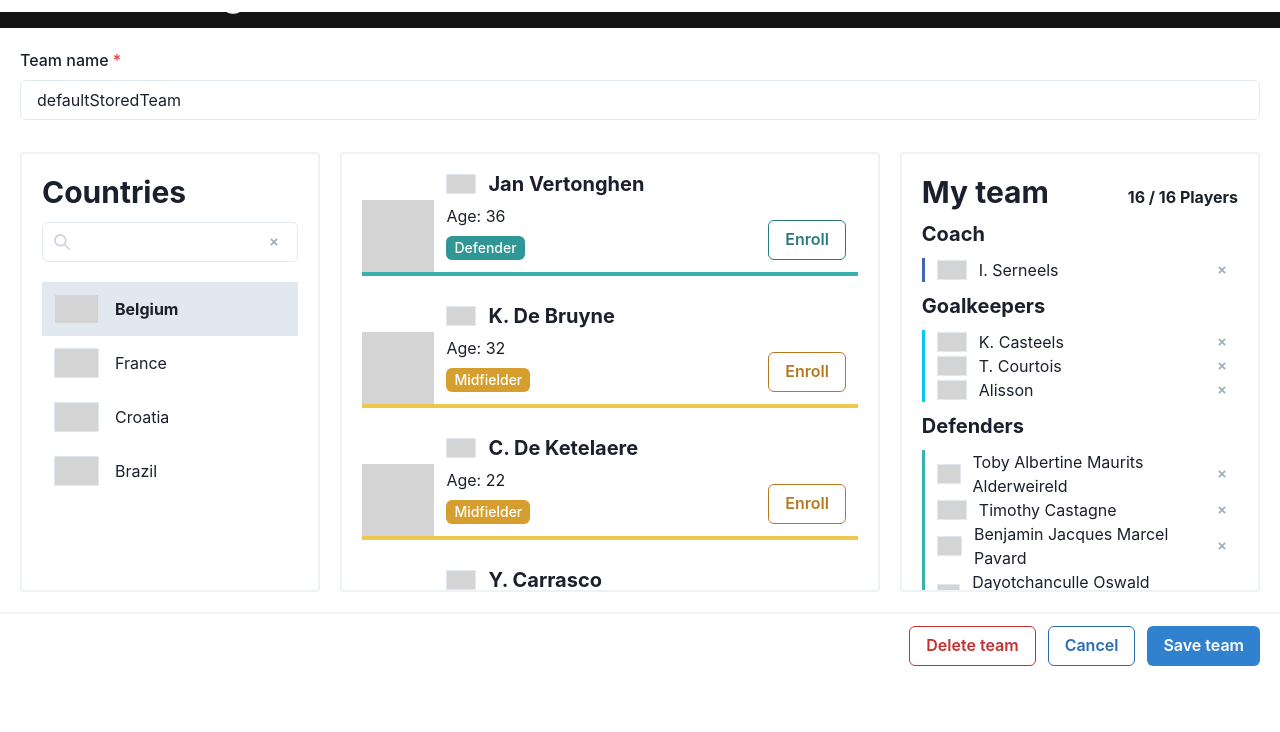
Test: <ManagerPlayersList /> › given limit of max number of players is reached, when enrolling a player should display an error message
This screenshot has width=1280, height=732.
(page scrolled)
Click the button named "Enroll K. De Bruyne.".
click(807, 372)  # box [768,352,846,392]
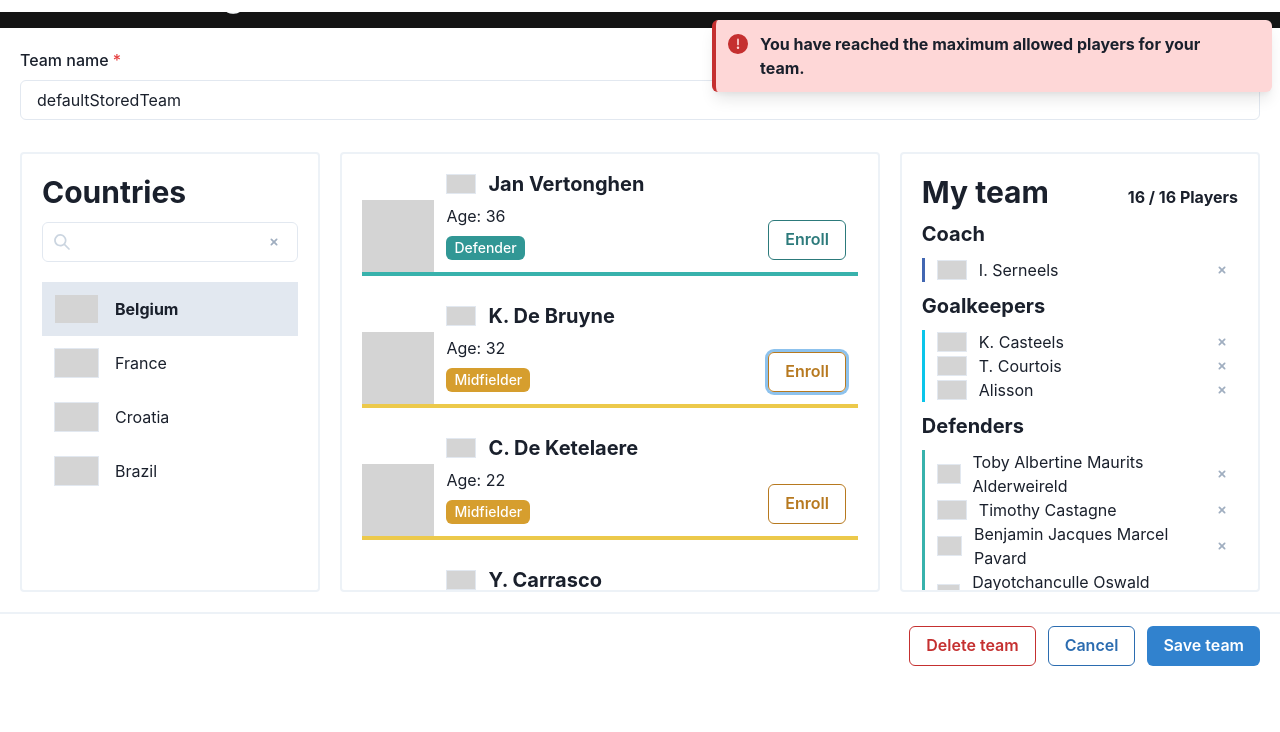
Expected: the text "You have reached the maximum allowed players for your team." is shown, [760,32,1232,80]
